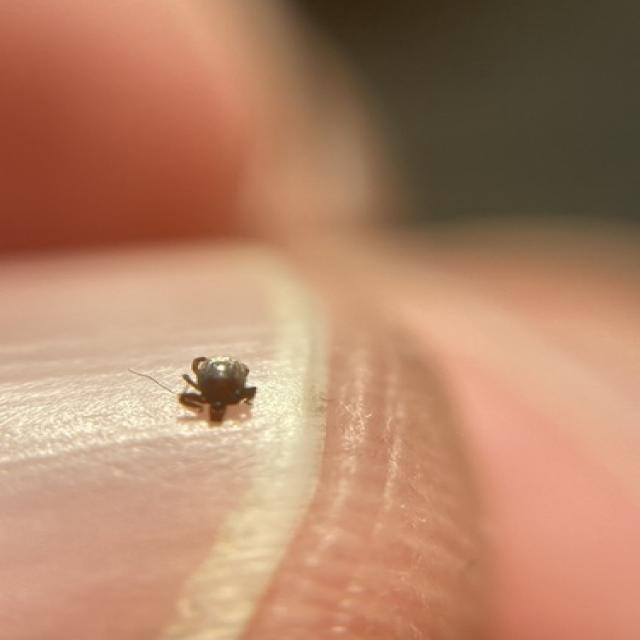Ixodes Ricinus-F-Fed: (176, 353, 261, 443)
